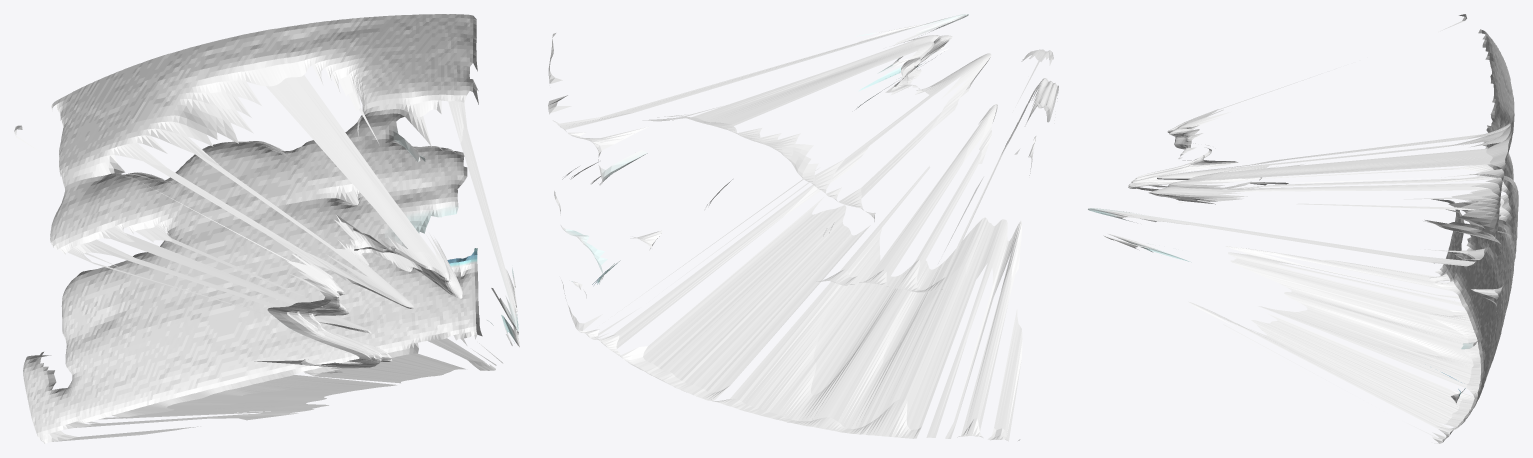
The picture shows the model from 3 angles, left to right: view 1: azimuth 30°, elevation 25°; view 2: azimuth 150°, elevation 25°; view 3: azimuth 270°, elevation 25°; orthographic projection. The views are drawn at different scales.
Parts seen in each view (by area): view 1: defaultobject; view 2: defaultobject; view 3: defaultobject.
Part boxes in pixels (left/top/right/bottom): defaultobject: left=14, top=14, right=519, bottom=443; defaultobject: left=548, top=14, right=1058, bottom=441; defaultobject: left=1088, top=14, right=1518, bottom=443.
Size of the model in its own units: 40.47 by 27.58 by 39.56.
1 material, 1 textured.
